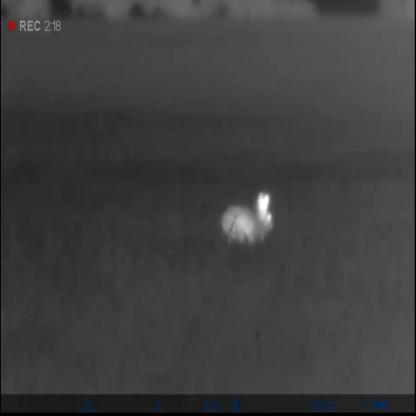rehkitze: (222, 191, 277, 250)
